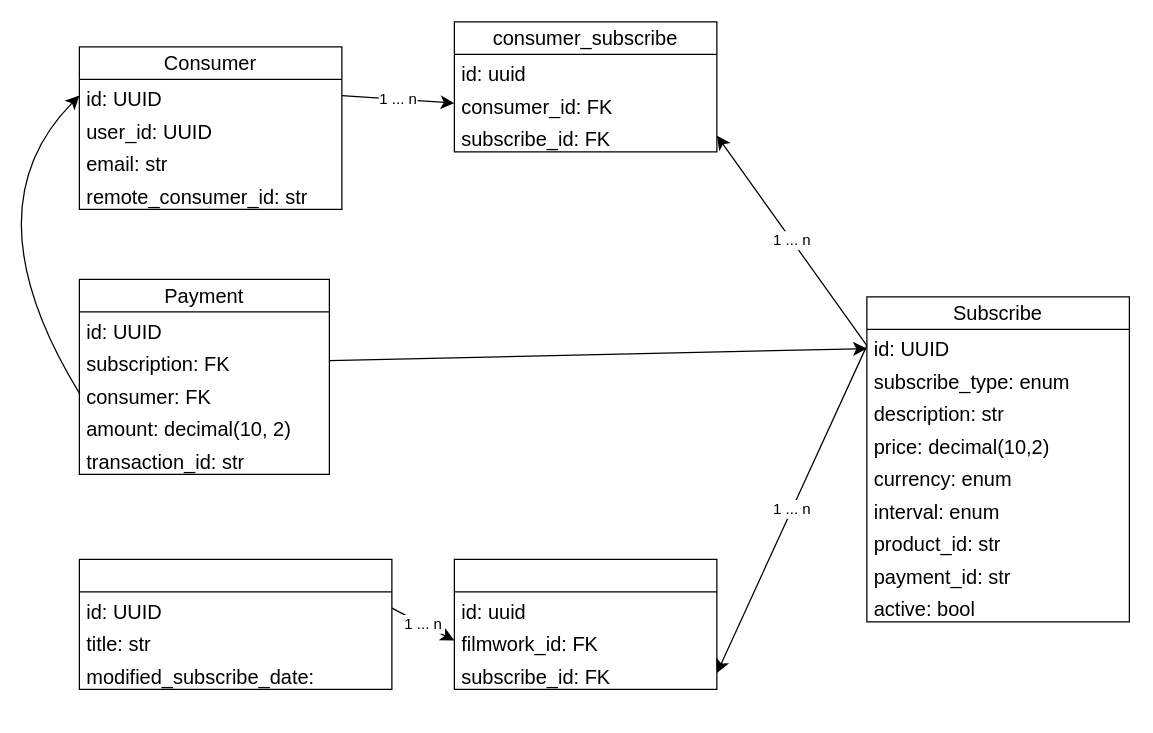
Some shapes in this 1153 by 733 pixel diagram are drawn without their labels. The shapes that lost their labels are listed below. From the top down, each one's box as (x1, y1, x2, y2) in pixels, then its label:
(78, 558, 392, 689): Filmwork
(453, 558, 717, 689): filmwork_subscribe
